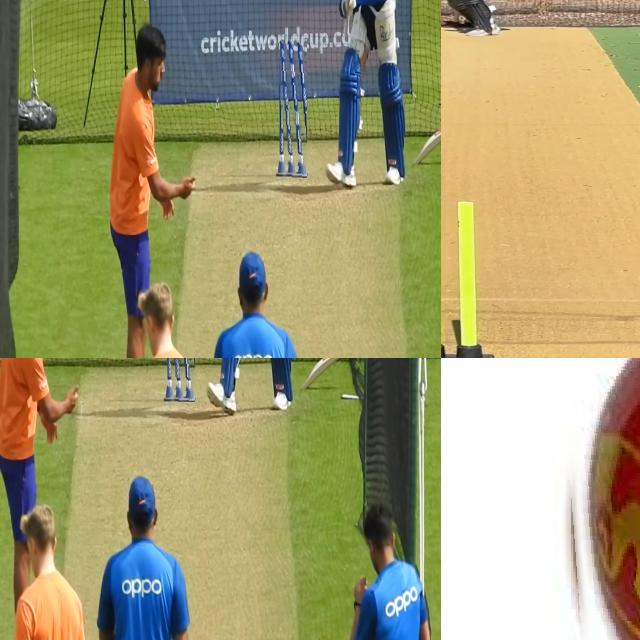Cricket ball: (555, 358, 640, 640)
Stumps: (441, 198, 498, 358), (276, 36, 307, 178), (163, 358, 195, 402)
